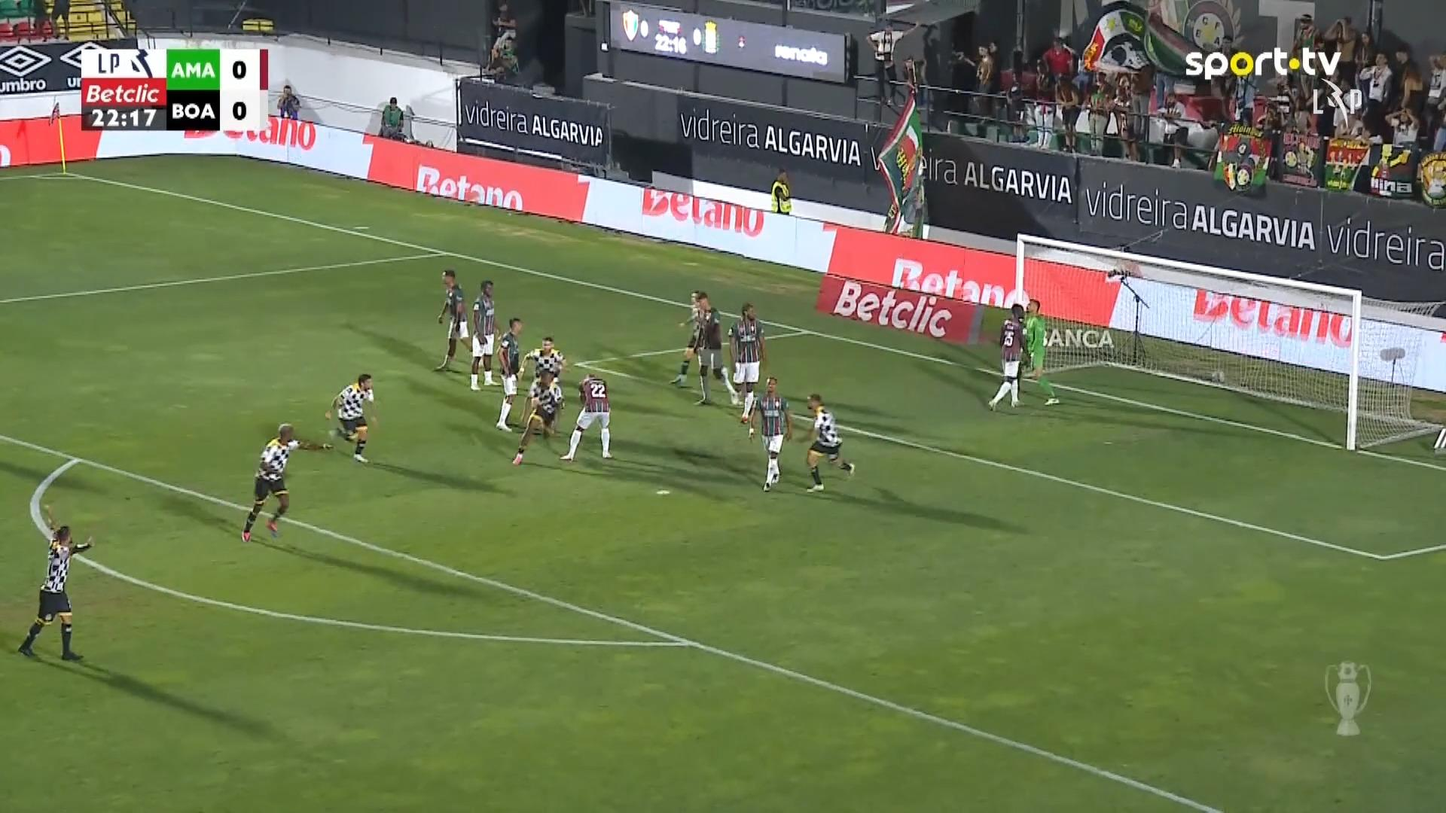goalkeeper: (1020, 297, 1060, 405)
player: (16, 501, 94, 661), (240, 422, 333, 542), (670, 291, 740, 406), (745, 376, 793, 492), (804, 392, 855, 492), (511, 371, 565, 465), (559, 370, 614, 461), (726, 301, 767, 423), (323, 372, 377, 463), (519, 335, 567, 435), (987, 302, 1028, 411), (433, 268, 472, 371), (669, 289, 708, 385), (493, 316, 524, 432), (468, 279, 499, 391)
